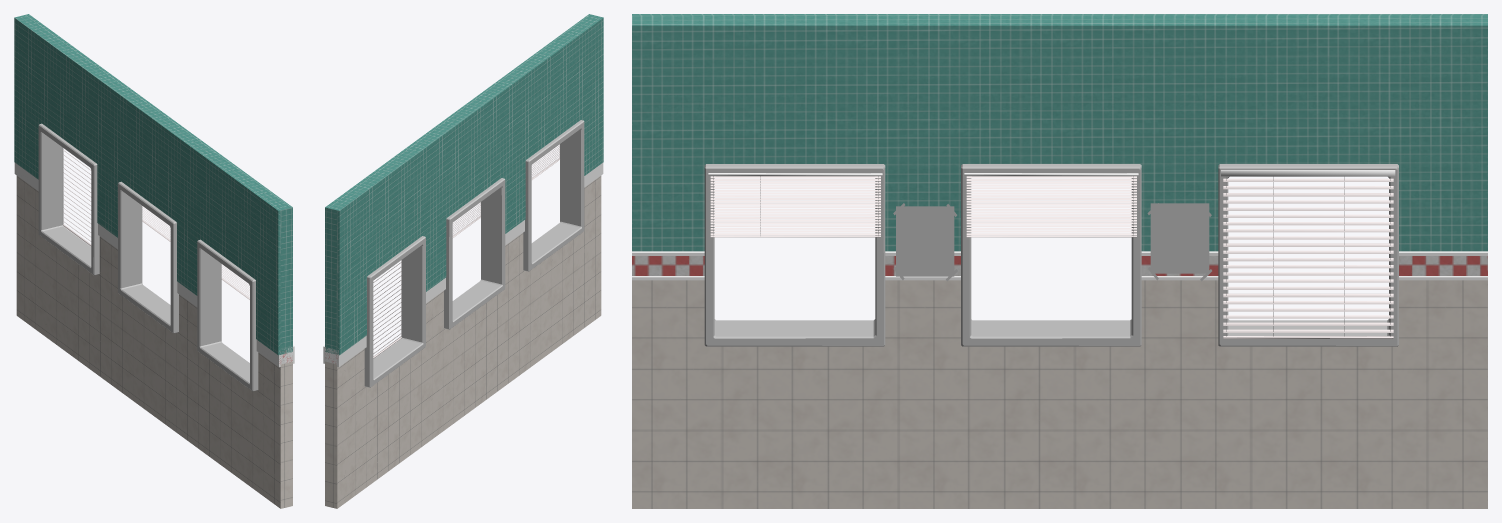
File: wall4 1.fbx
The picture shows the model from 3 angles, left to right: view 1: azimuth 30°, elevation 25°; view 2: azimuth 150°, elevation 25°; view 3: azimuth 270°, elevation 25°; orthographic projection. The views are drawn at different scales.
Parts seen in each view (by area): view 1: blinds__2___0_2; view 2: blinds__2___0_2; view 3: blinds__2___0_2.
Boxes of the visible parts, box(x1,y1,x2,y2) form: blinds__2___0_2: box(14, 14, 294, 508); blinds__2___0_2: box(323, 14, 603, 508); blinds__2___0_2: box(632, 14, 1487, 508).
Bounding box in the file's own units: 89.82 × 1036 × 1663.
